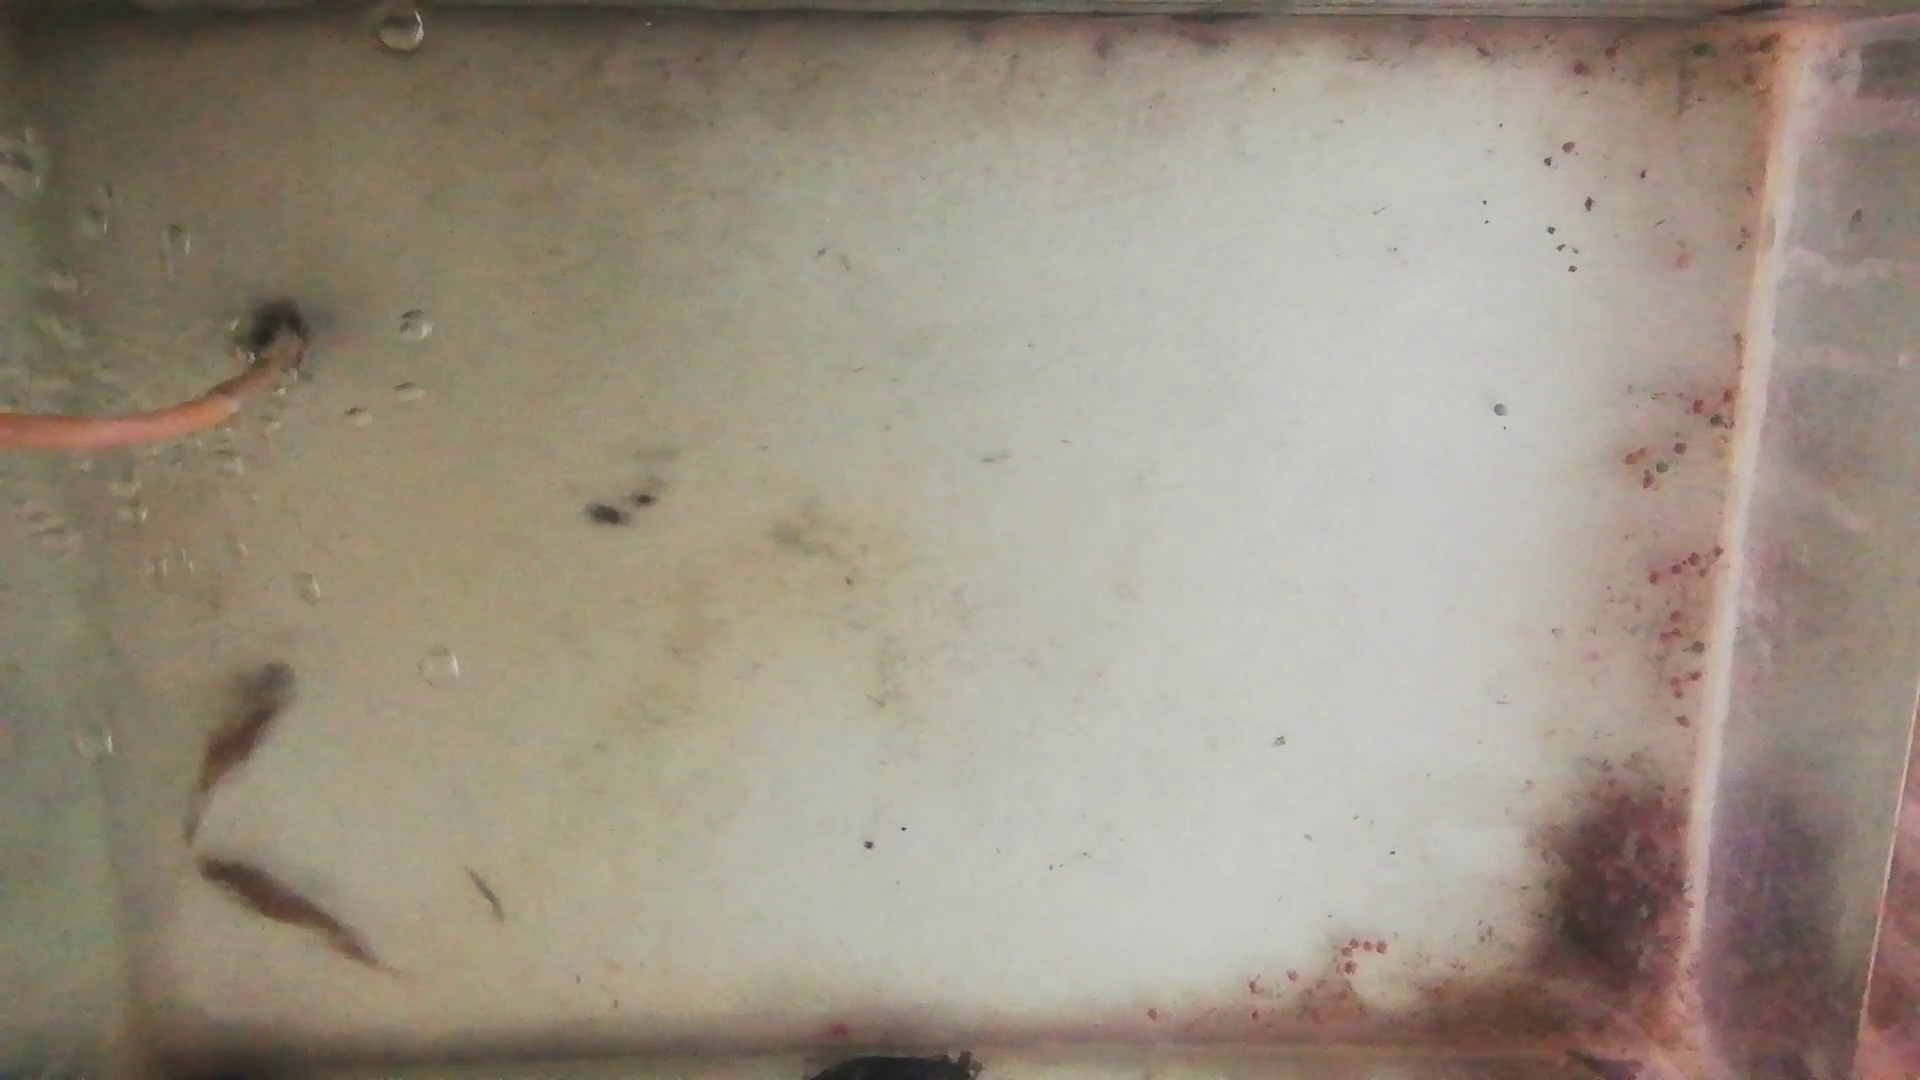fish: (178, 659, 301, 844), (183, 852, 375, 968)
